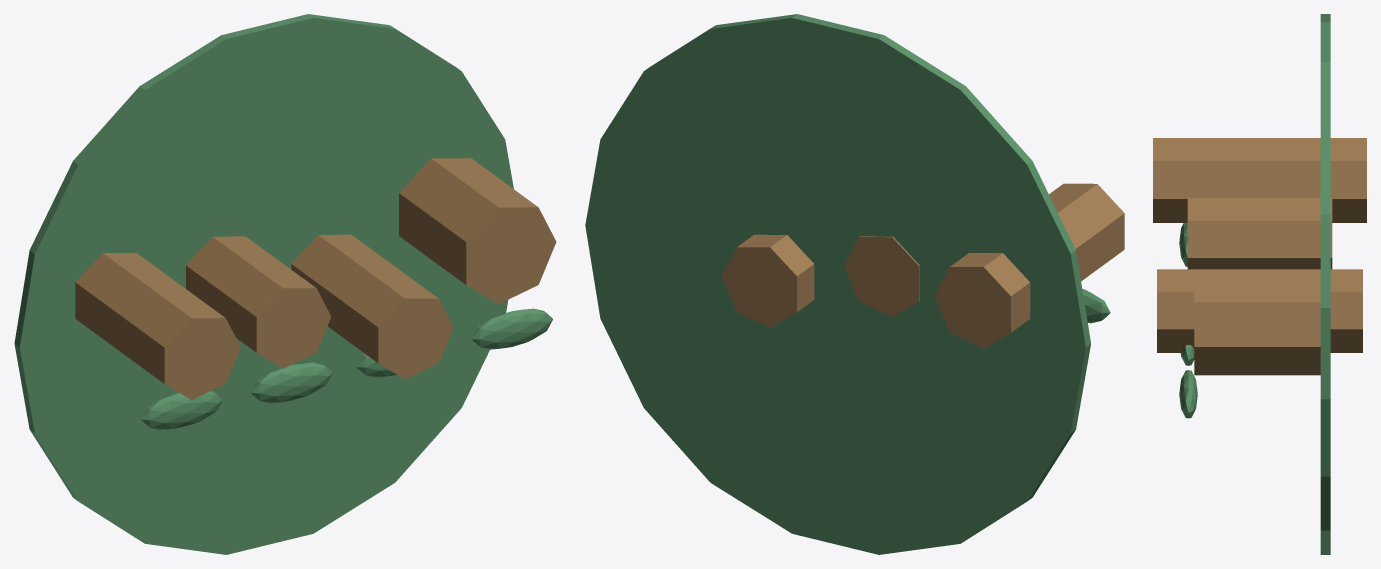
File: 02_display_prop_cluster.glb
The picture shows the model from 3 angles, left to right: view 1: azimuth 30°, elevation 25°; view 2: azimuth 150°, elevation 25°; view 3: azimuth 270°, elevation 25°; orthographic projection. The views are drawn at different scales.
Parts seen in each view (by area): view 1: scatter_base, root_stump_3, root_stump_0, root_stump_2, root_stump_1, moss_3, moss_1, moss_0; view 2: scatter_base, root_stump_0, root_stump_2, root_stump_1; view 3: root_stump_0, root_stump_3, root_stump_1, root_stump_2, scatter_base, moss_3, moss_0.
Boxes of the visible parts, <box> form: scatter_base: <box>14,14,513,554</box>; root_stump_3: <box>399,158,556,304</box>; root_stump_0: <box>75,253,240,399</box>; root_stump_2: <box>291,234,453,379</box>; root_stump_1: <box>186,236,331,368</box>; moss_3: <box>471,308,552,349</box>; moss_1: <box>250,362,332,403</box>; moss_0: <box>141,391,222,430</box>; scatter_base: <box>585,14,1090,554</box>; root_stump_0: <box>935,183,1124,348</box>; root_stump_2: <box>722,234,814,327</box>; root_stump_1: <box>844,236,919,317</box>; root_stump_0: <box>1153,138,1366,222</box>; root_stump_3: <box>1194,275,1320,375</box>; root_stump_1: <box>1187,198,1332,269</box>; root_stump_2: <box>1157,269,1362,352</box>; scatter_base: <box>1320,14,1330,554</box>; moss_3: <box>1179,370,1197,418</box>; moss_0: <box>1179,223,1187,266</box>.
Size of the model in its own units: 1.9 by 1.87 by 0.7476.
